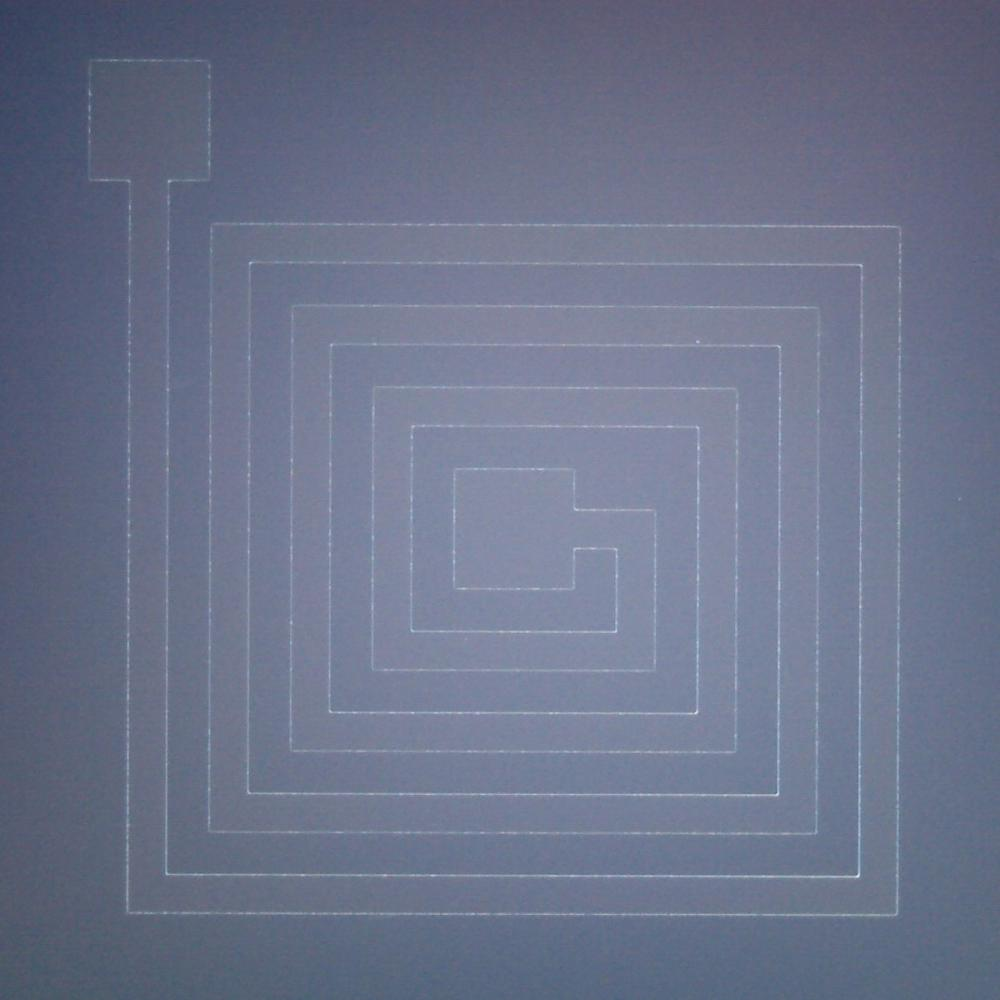dot: (696, 340, 700, 344)
